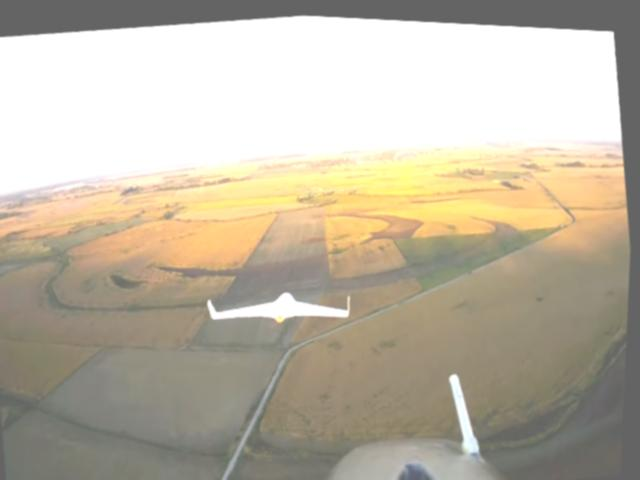plane: (207, 276, 355, 331)
